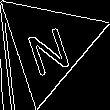N_N: (22, 13, 75, 75)
